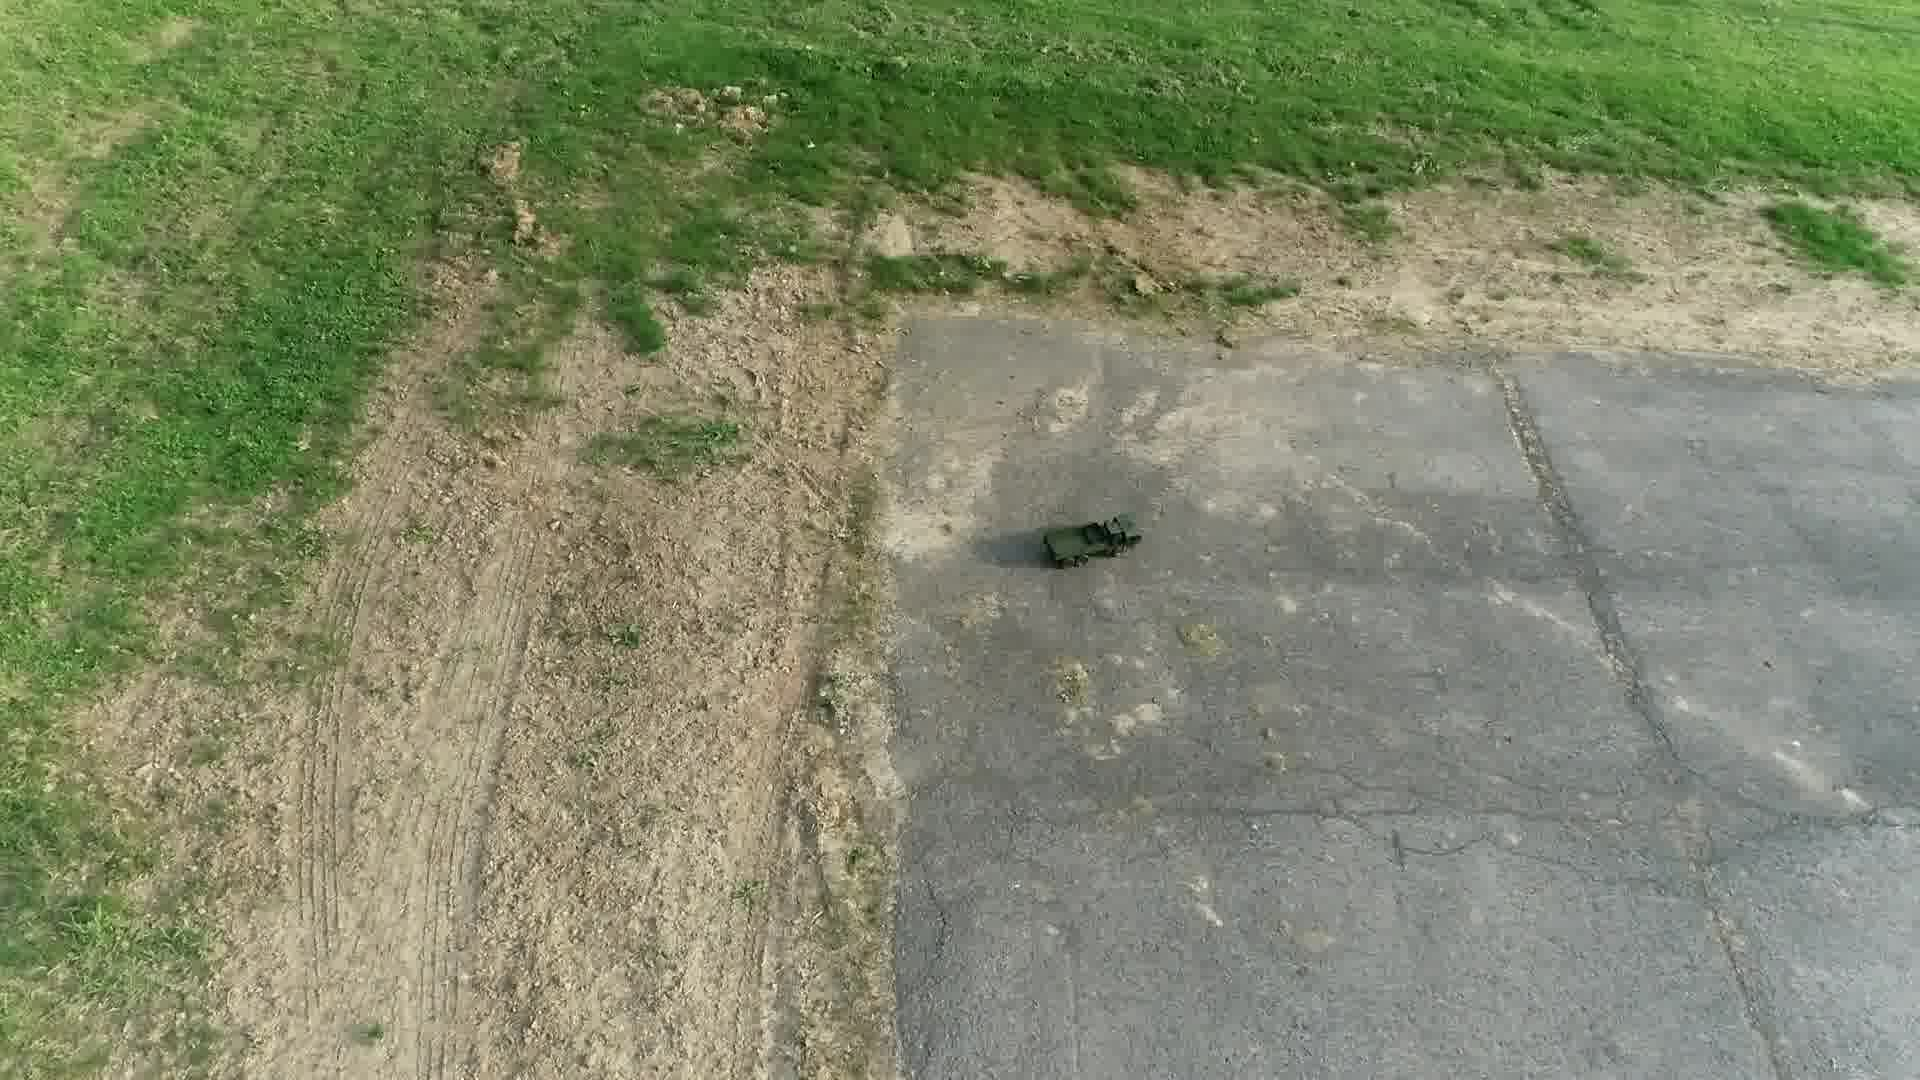transporter9: (1035, 504, 1146, 571)
